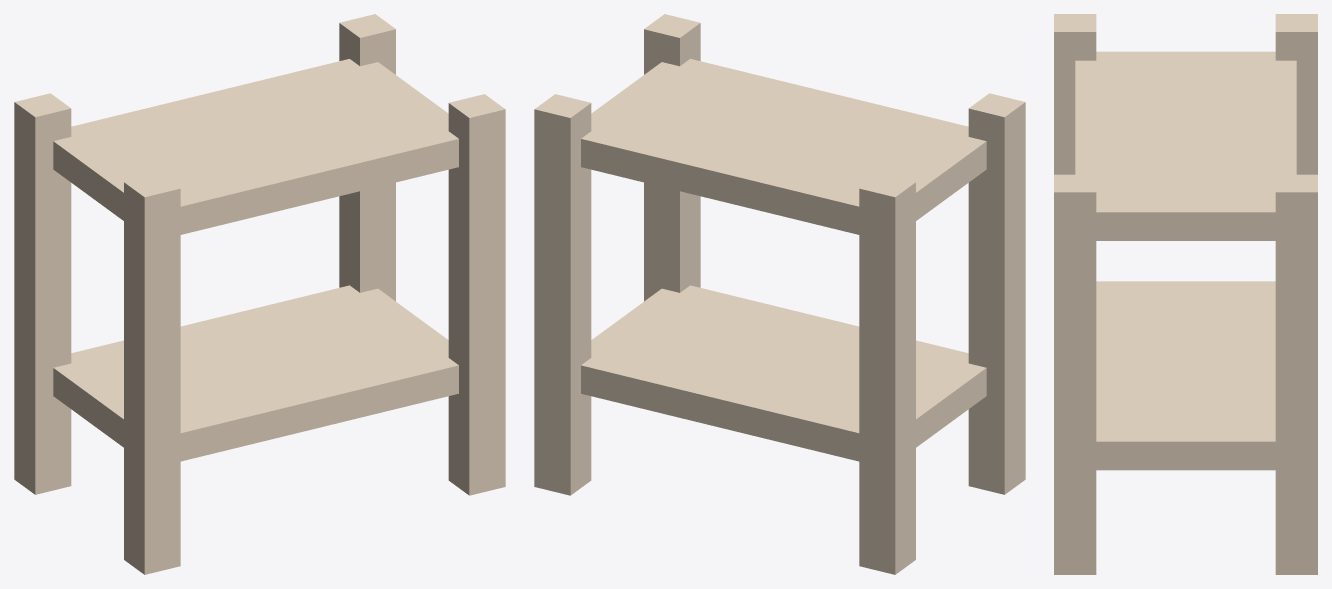
Rendered from furn_lowbookcase.glb.
The picture shows the model from 3 angles, left to right: view 1: azimuth 30°, elevation 25°; view 2: azimuth 150°, elevation 25°; view 3: azimuth 270°, elevation 25°; orthographic projection.
Parts seen in each view (by area): view 1: lowbookcase; view 2: lowbookcase; view 3: lowbookcase.
Boxes of the visible parts, box(x1,y1,x2,y2) form: lowbookcase: box(14, 14, 505, 574); lowbookcase: box(534, 14, 1025, 574); lowbookcase: box(1054, 14, 1317, 574).
Bounding box in the file's own units: 0.75 × 0.75 × 0.4687.
